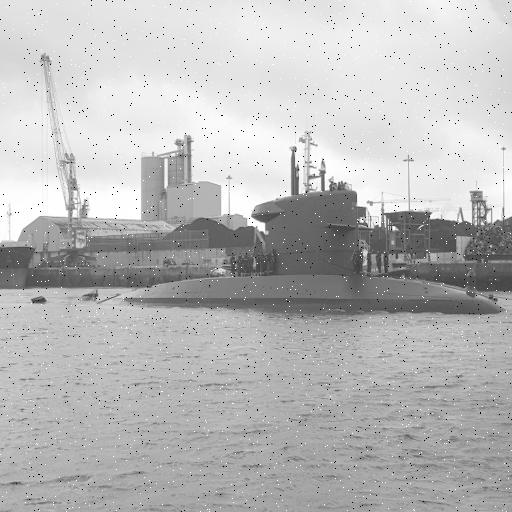submarine: (31, 145, 510, 318)
